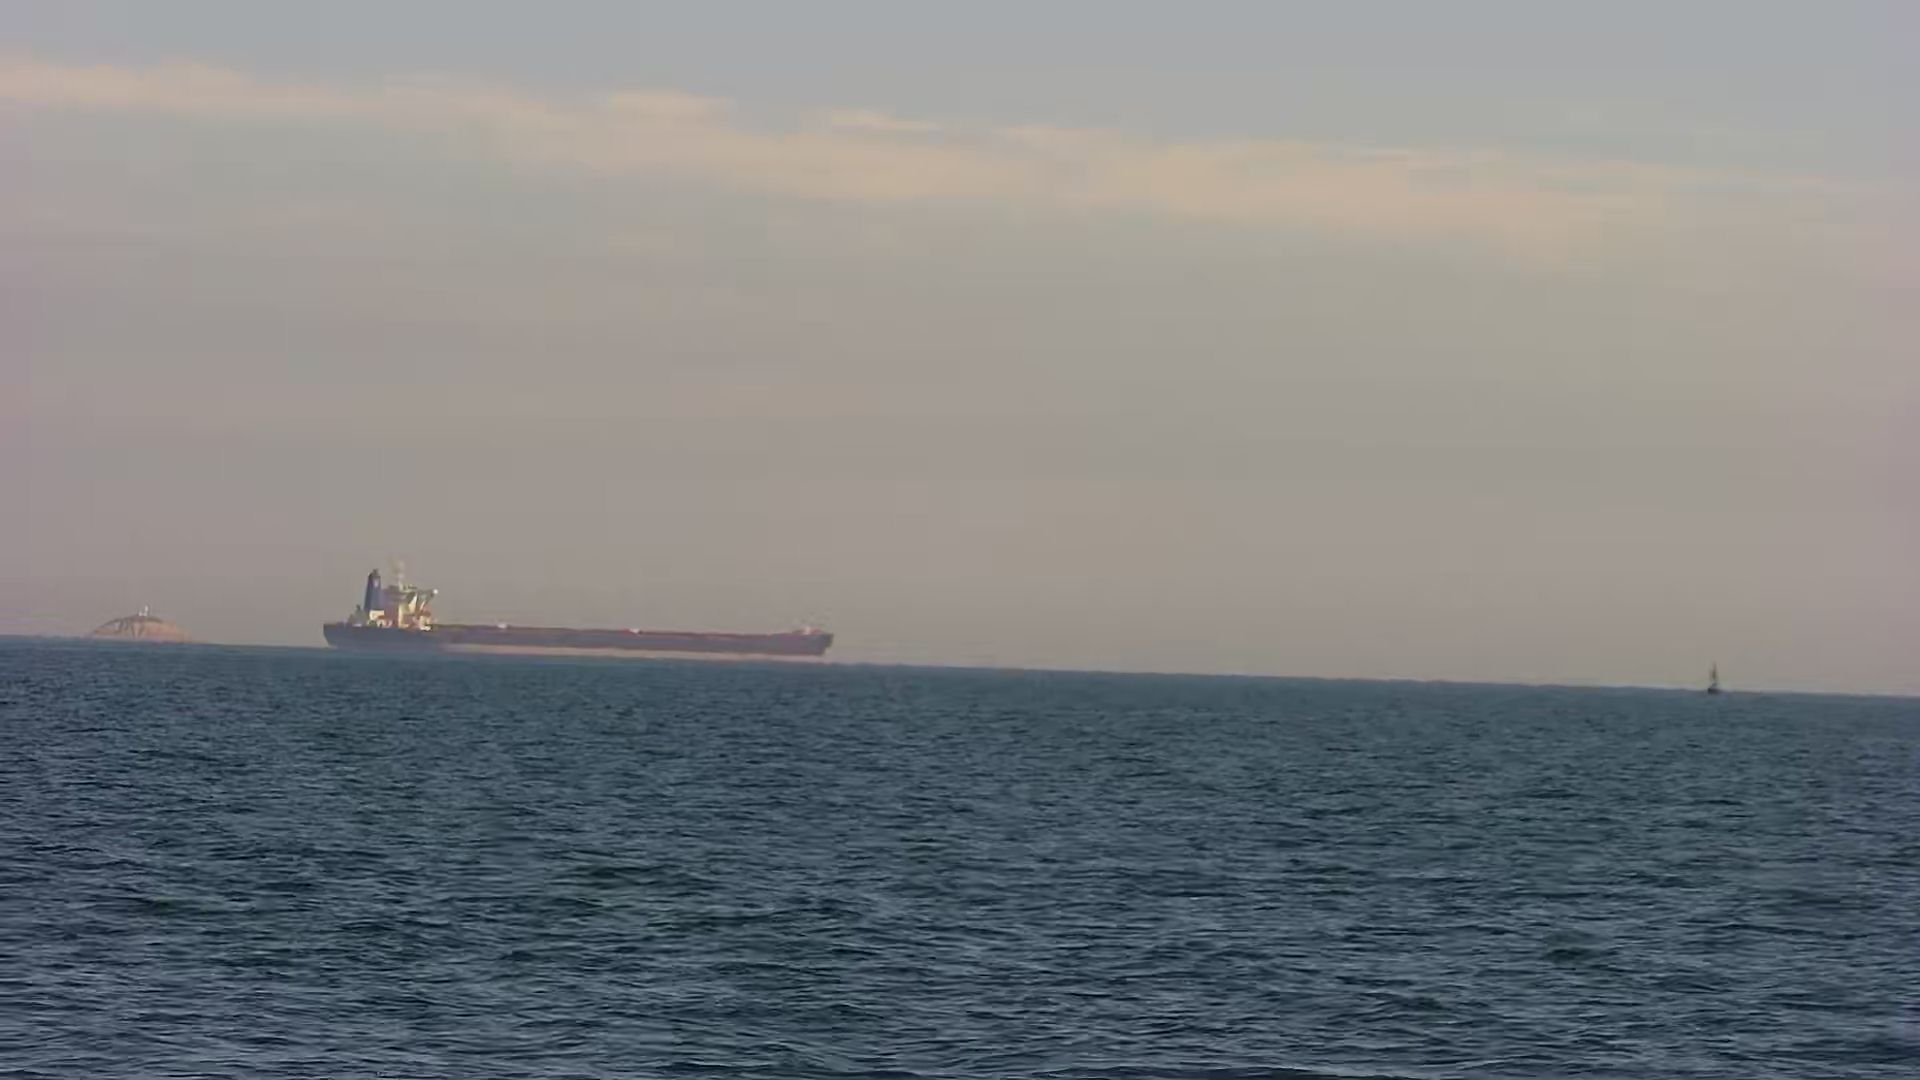rock: (83, 608, 199, 647)
ship: (323, 560, 844, 674)
